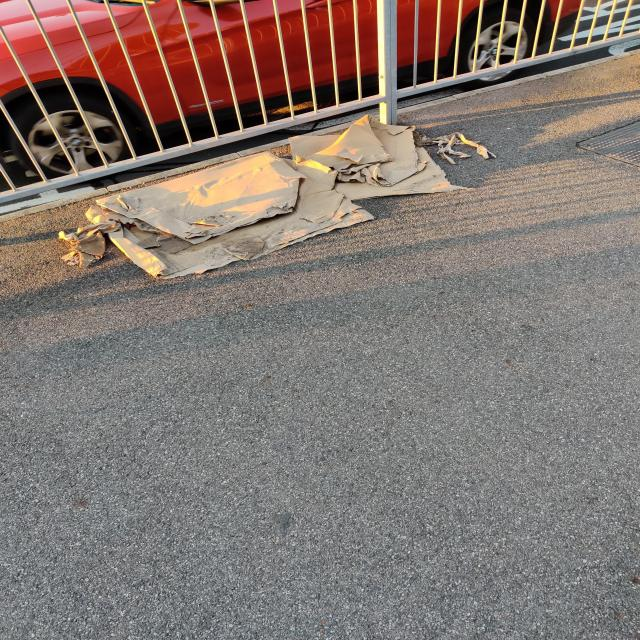litter: (58, 114, 497, 280)
